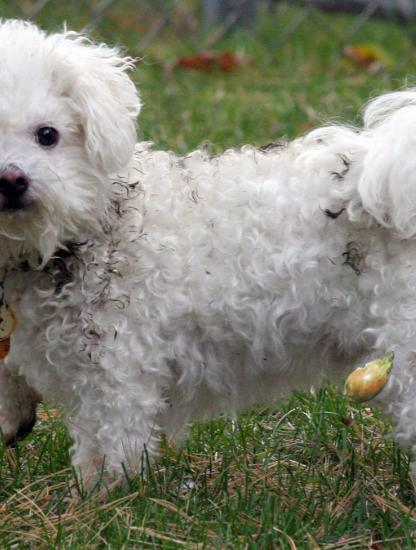Cactus: (340, 344, 407, 411)
